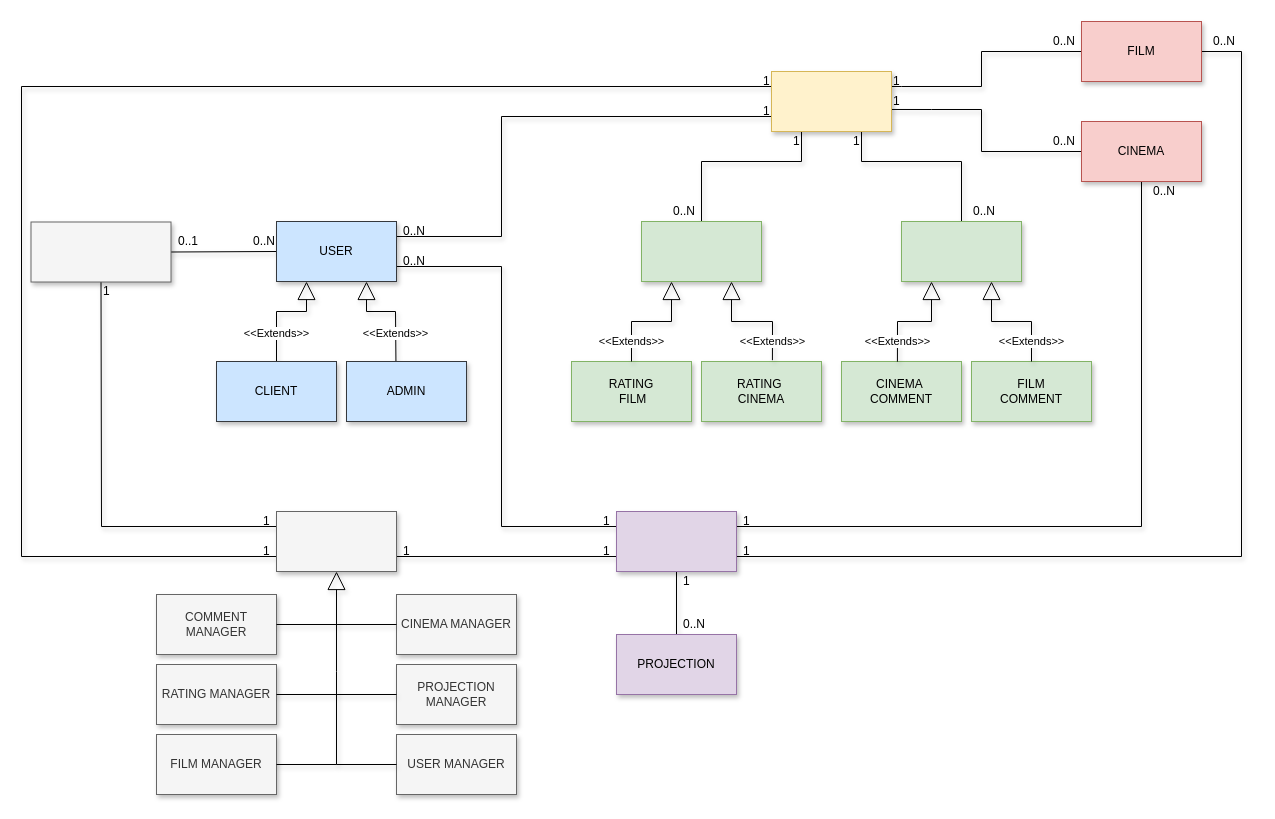
Some shapes in this 1275 by 819 pixel diagram are drawn without their labels. Each missing label, with the centre of its shape:
"COMMENT" goes at (962,252).
"DB ENTITY MANAGER" goes at (337,542).
"PROGRAMMATION MANAGER" goes at (677,542).
"RATING" goes at (702,252).
"SOCIAL MANAGER" goes at (832,102).
"SYSTEM MANAGER" goes at (101,253).
